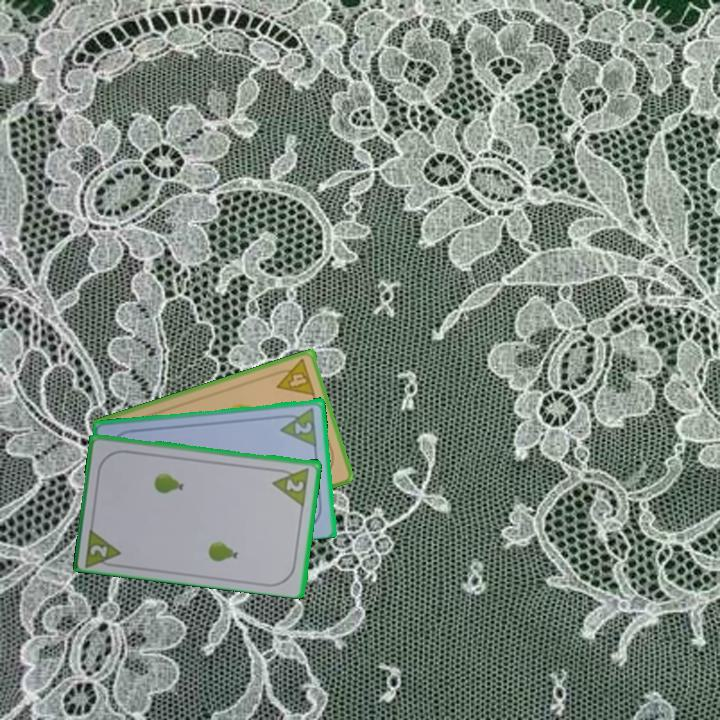2p: (82, 523, 125, 570), (269, 464, 312, 507), (291, 418, 315, 437)
4p: (270, 355, 318, 399)
